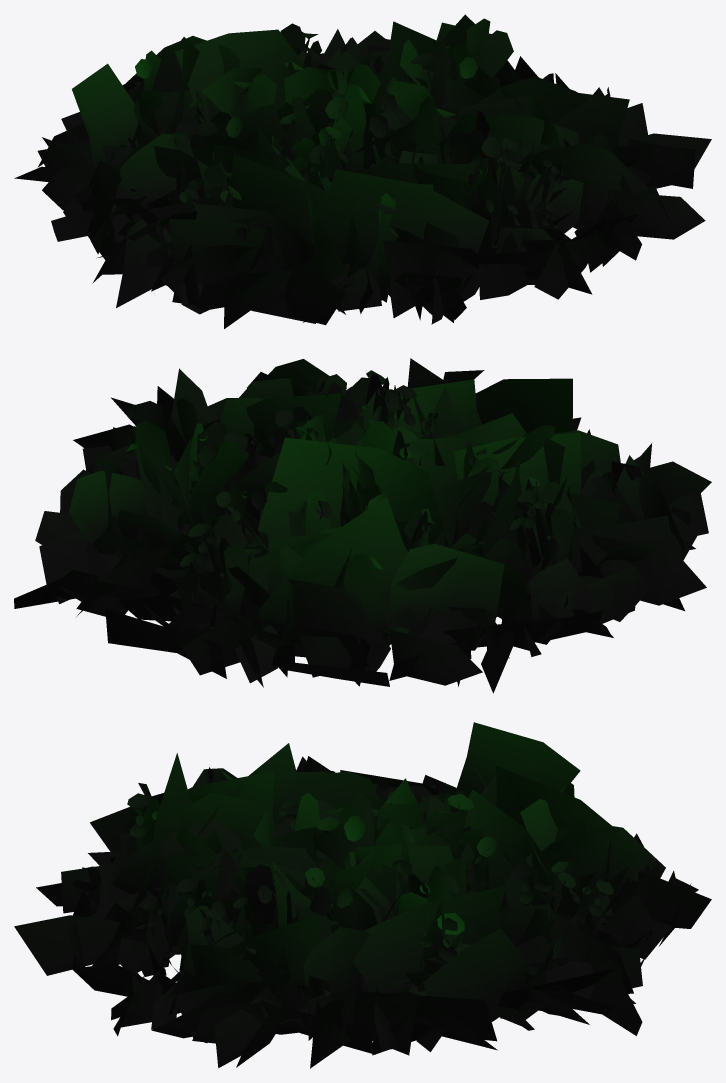
File: Grass Mixed_B.fbx
The picture shows the model from 3 angles, top to bottom: view 1: azimuth 30°, elevation 25°; view 2: azimuth 150°, elevation 25°; view 3: azimuth 270°, elevation 25°; orthographic projection. The views are drawn at different scales.
Parts seen in each view (by area): view 1: Grass MixedB_G_LOD0, Grass MixedB_F_LOD0; view 2: Grass MixedB_G_LOD0, Grass MixedB_F_LOD0; view 3: Grass MixedB_G_LOD0, Grass MixedB_F_LOD0.
Part boxes in pixels (<box>): Grass MixedB_G_LOD0: <box>14,14,711,328</box>; Grass MixedB_F_LOD0: <box>135,18,626,302</box>; Grass MixedB_G_LOD0: <box>14,358,711,693</box>; Grass MixedB_F_LOD0: <box>126,370,641,645</box>; Grass MixedB_G_LOD0: <box>14,722,711,1068</box>; Grass MixedB_F_LOD0: <box>127,767,613,1040</box>.
Size of what is drawn, in the model's own units: 3.08 by 0.7016 by 3.08.
